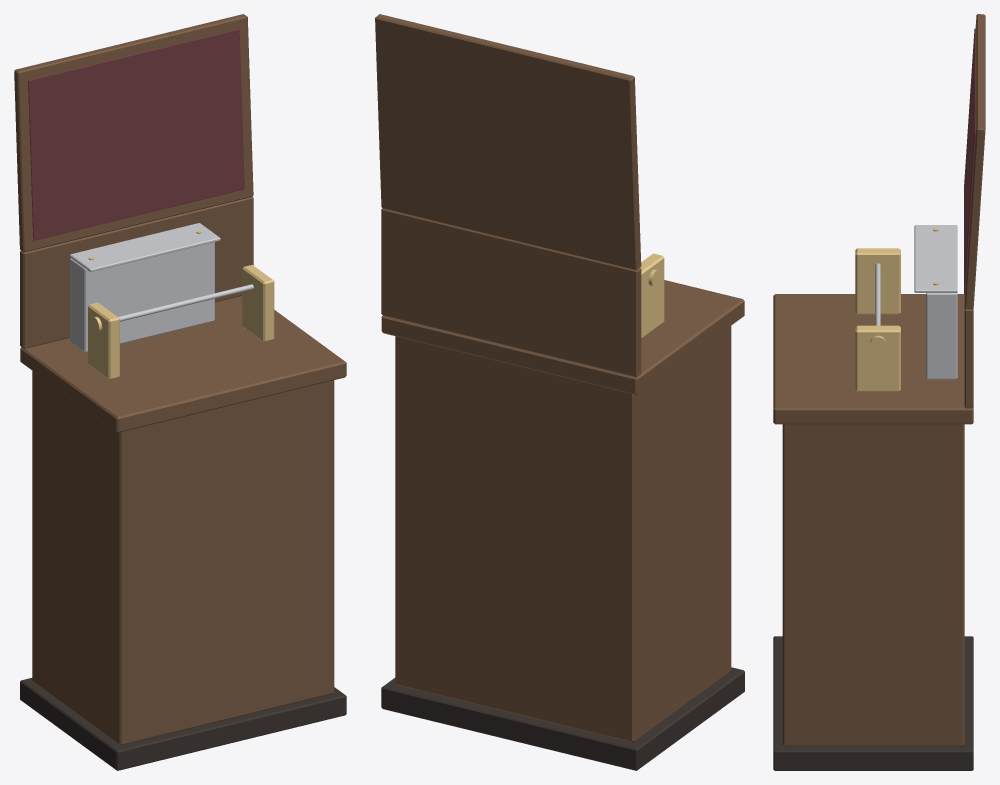
Rendered from music_box.glb.
3 views of the same model, side by side, from view 1: azimuth 30°, elevation 25°; view 2: azimuth 150°, elevation 25°; view 3: azimuth 270°, elevation 25° (orthographic). The views are drawn at different scales.
Parts seen in each view (by area): view 1: MusicBox; view 2: MusicBox; view 3: MusicBox.
Boxes of the visible parts, x1=… form: MusicBox: x1=14, y1=14, x2=346, y2=770; MusicBox: x1=375, y1=14, x2=744, y2=770; MusicBox: x1=773, y1=14, x2=985, y2=770.
Bounding box in the file's own units: 0.6 × 1.56 × 0.4662.
